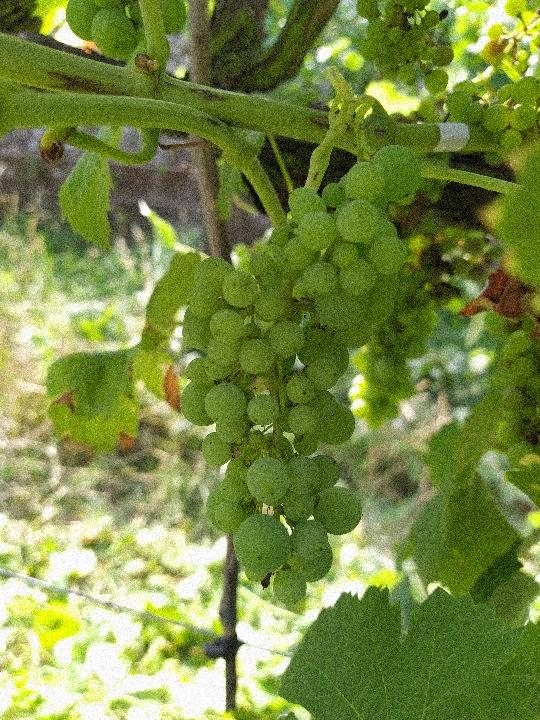grape: (179, 143, 423, 606)
